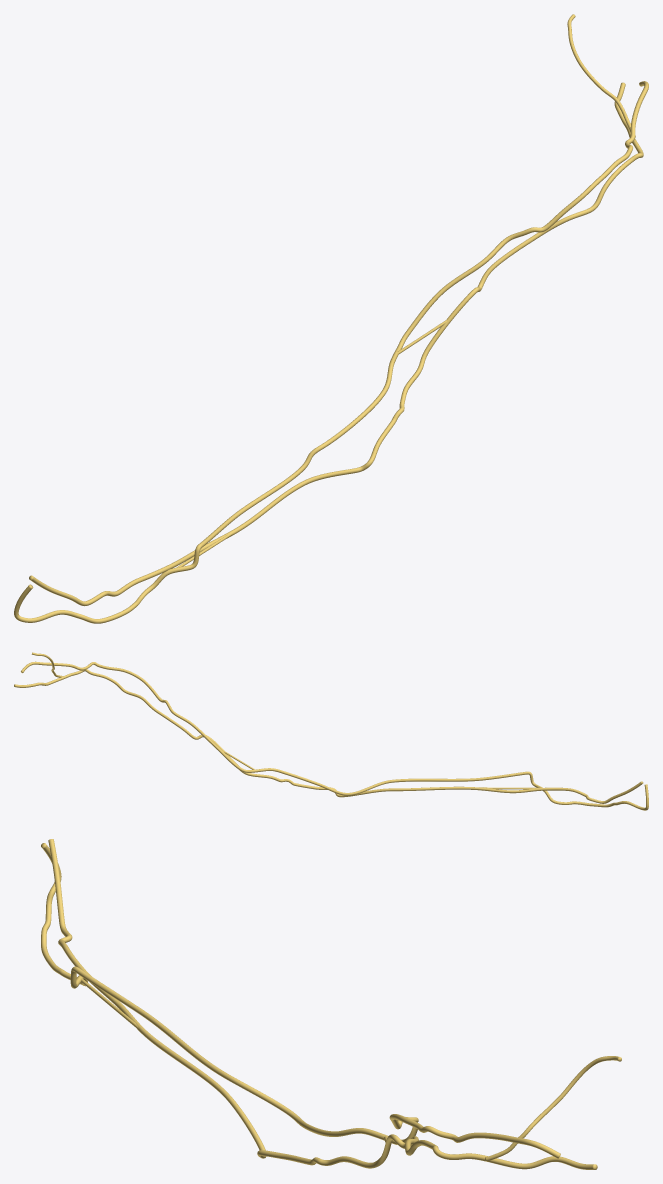
The model's file is splenic-plexus.glb.
3 renders of one model, top to bottom at view 1: azimuth 30°, elevation 25°; view 2: azimuth 150°, elevation 25°; view 3: azimuth 270°, elevation 25°, orthographic. The views are drawn at different scales.
Parts seen in each view (by area): view 1: VMRA_SPLENIC_PLEXUS_01; view 2: VMRA_SPLENIC_PLEXUS_01; view 3: VMRA_SPLENIC_PLEXUS_01.
Part boxes in pixels (box(x1,y1,x2,y2)): VMRA_SPLENIC_PLEXUS_01: box(14, 14, 648, 623); VMRA_SPLENIC_PLEXUS_01: box(14, 652, 648, 810); VMRA_SPLENIC_PLEXUS_01: box(41, 839, 621, 1169).
Bounding box in the file's own units: 0.0716 × 0.0213 × 0.0358.
